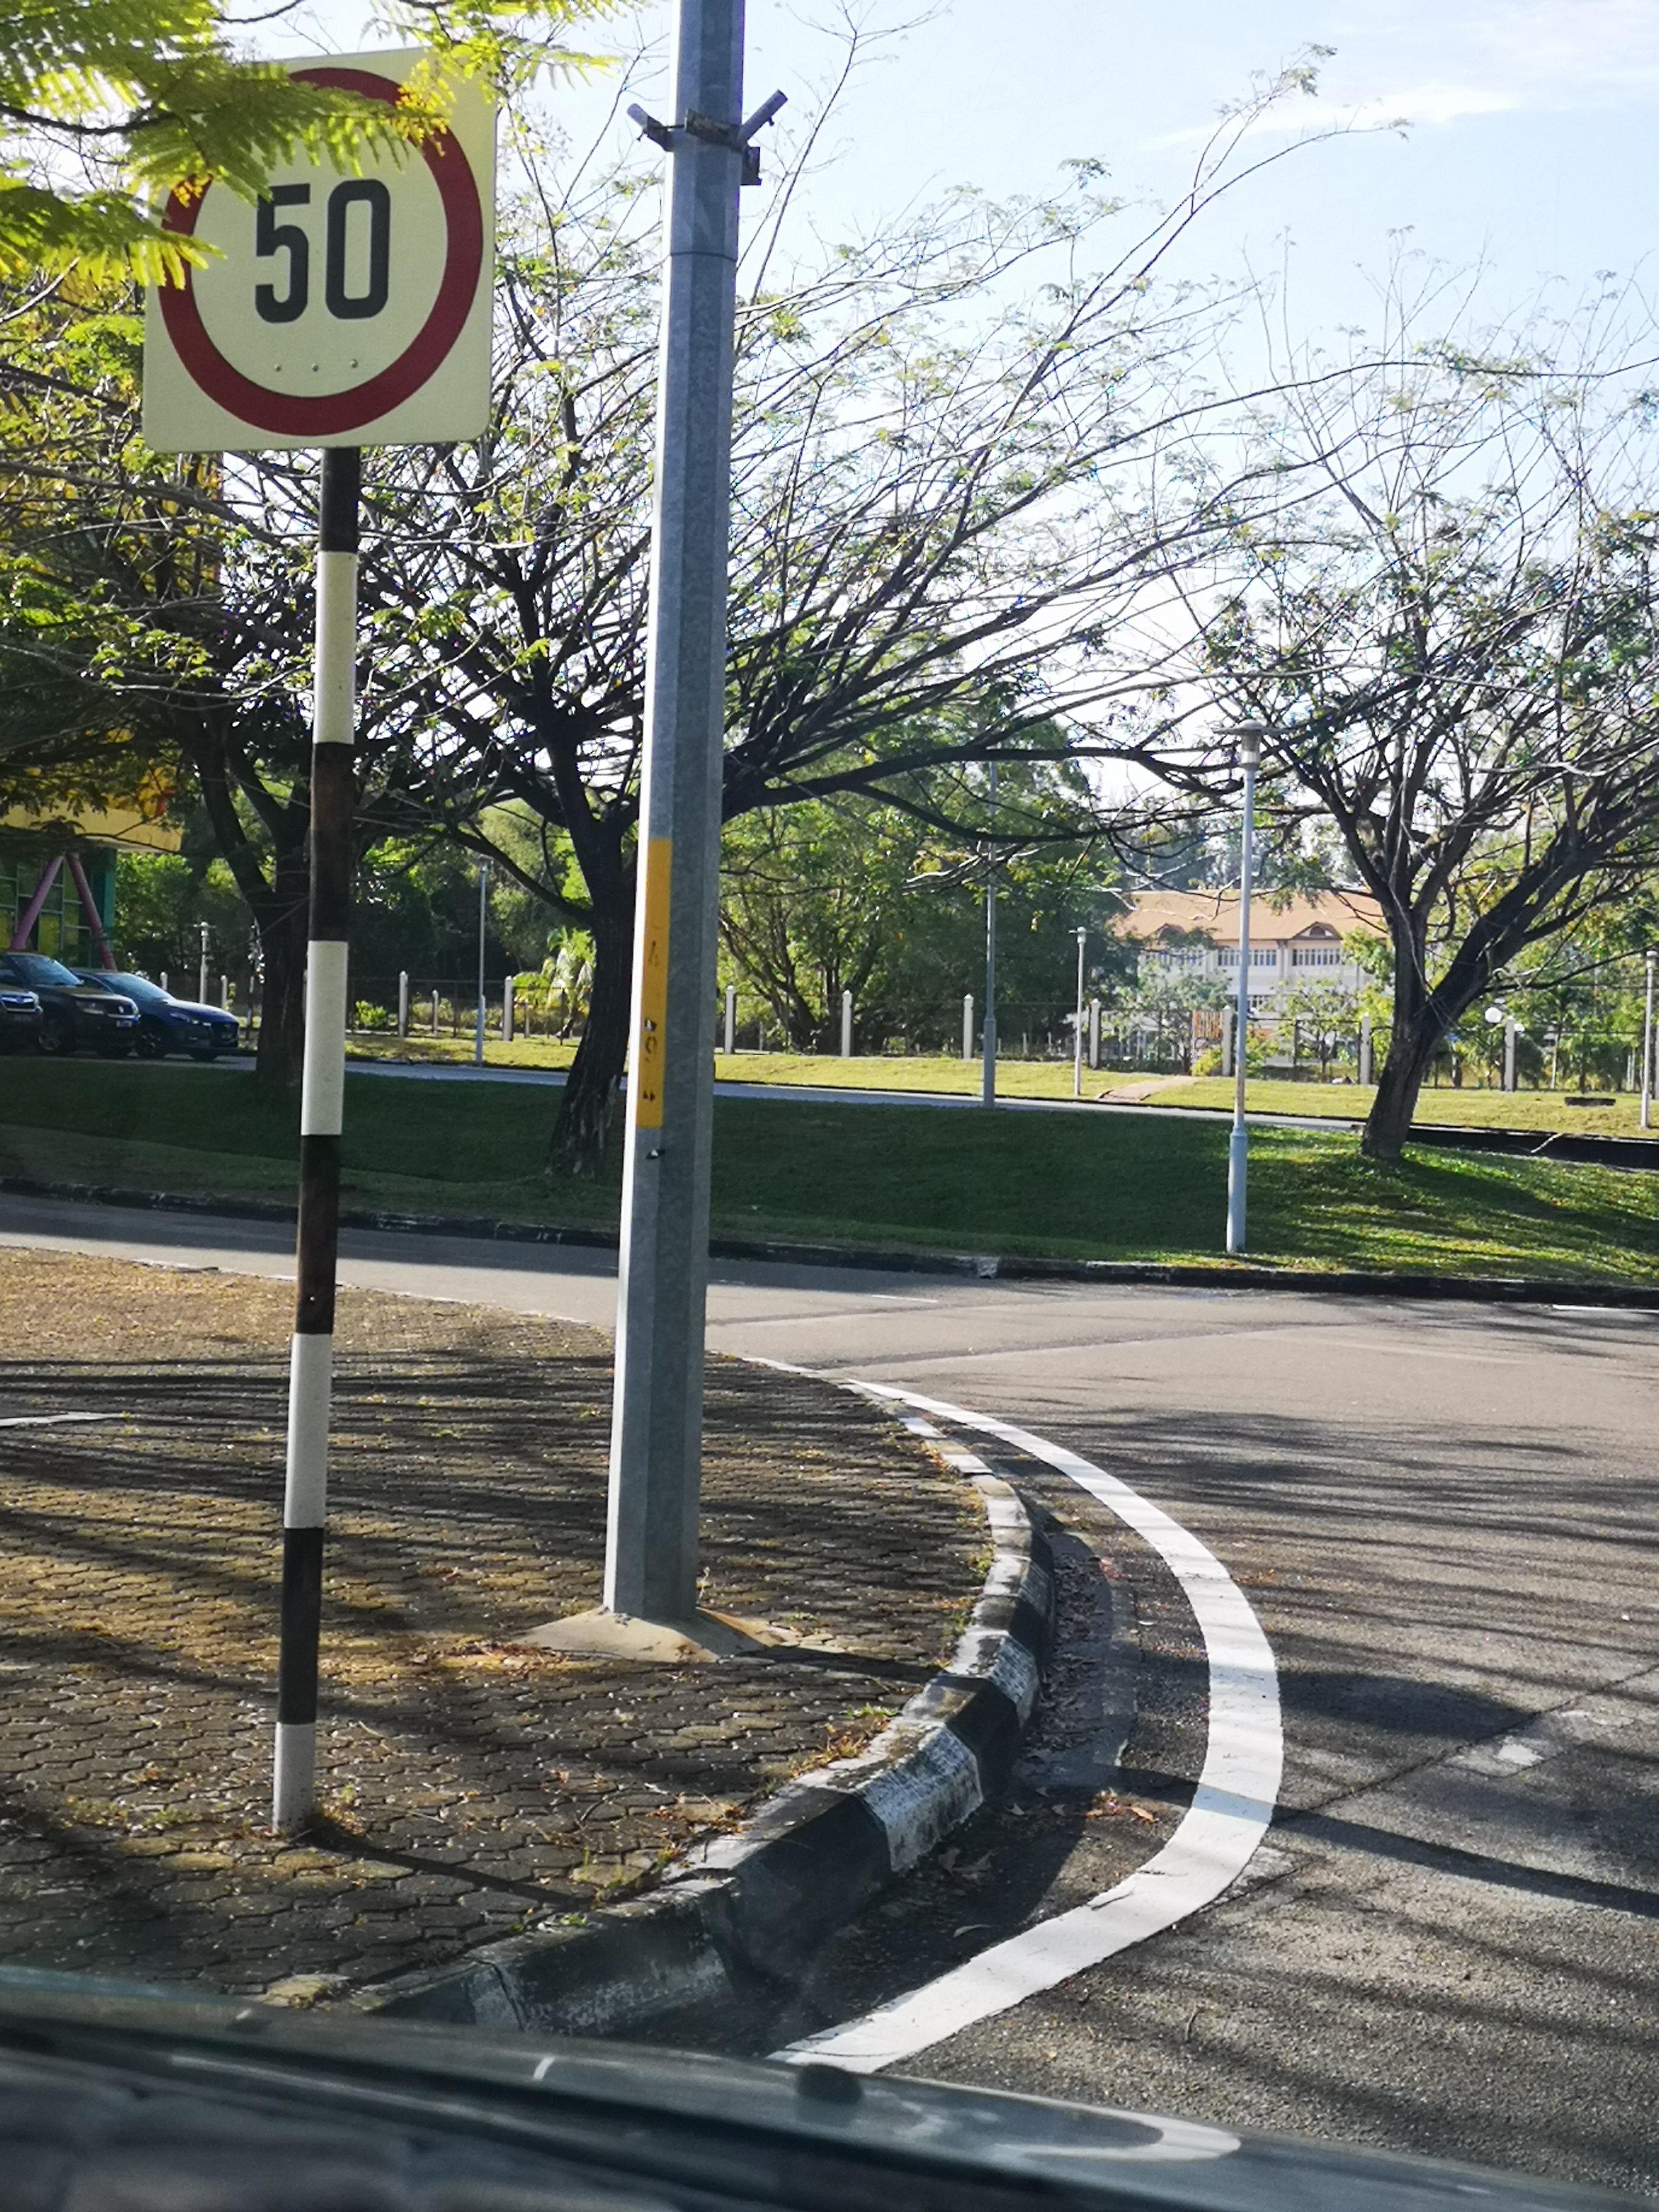speed limit 50: (134, 57, 497, 437)
